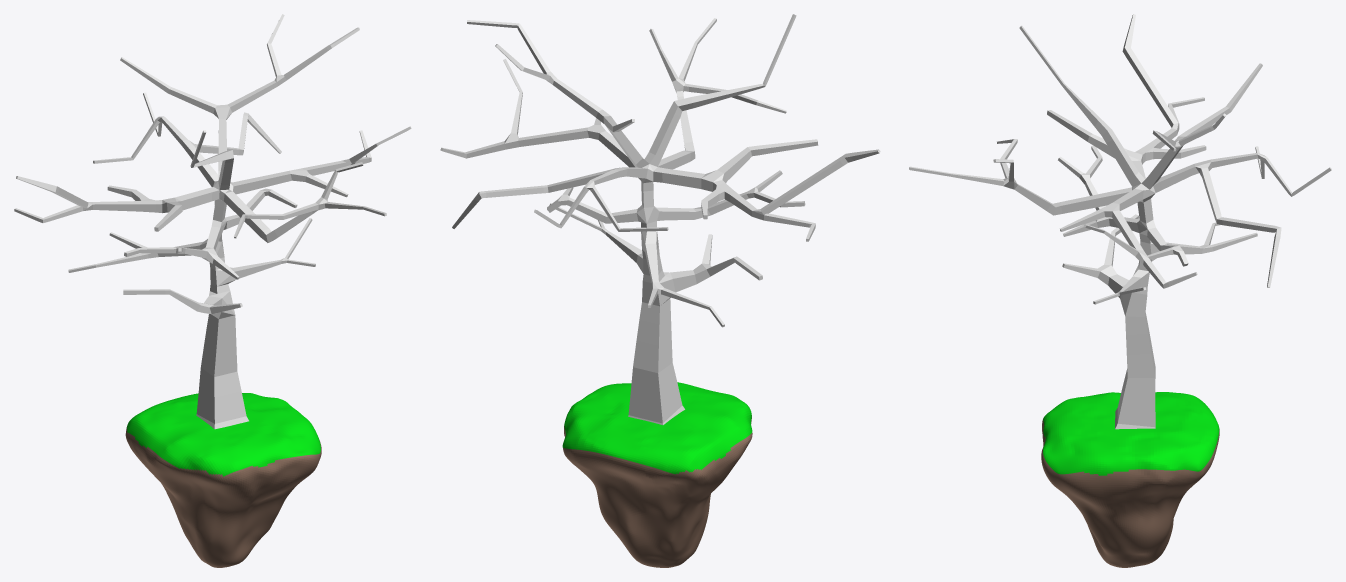
The model's file is IslaJam.fbx.
3 views of the same model, side by side, from view 1: azimuth 30°, elevation 25°; view 2: azimuth 150°, elevation 25°; view 3: azimuth 270°, elevation 25° (orthographic). The views are drawn at different scales.
Visible parts, largest first — view 1: ArbolCentral, Isla; view 2: ArbolCentral, Isla; view 3: ArbolCentral, Isla.
Part boxes in pixels (bbox=[...]): ArbolCentral: bbox=[14, 14, 411, 429]; Isla: bbox=[125, 393, 321, 567]; ArbolCentral: bbox=[440, 14, 880, 424]; Isla: bbox=[562, 382, 752, 567]; ArbolCentral: bbox=[909, 14, 1331, 429]; Isla: bbox=[1041, 392, 1219, 567].
Size of the model in its own units: 8163 by 10096 by 7688.
